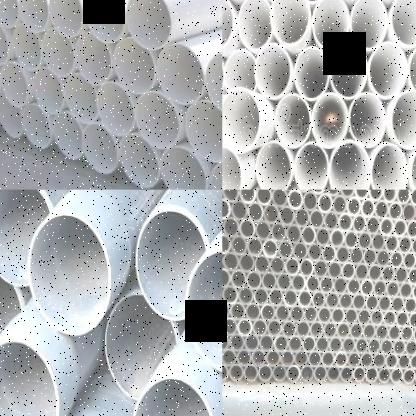pipe: (28, 213, 112, 337), (135, 210, 207, 322), (105, 294, 177, 400), (0, 190, 50, 286), (0, 337, 60, 416), (185, 247, 222, 374), (132, 375, 217, 416), (157, 44, 206, 104), (222, 87, 261, 153), (136, 92, 180, 150), (0, 263, 22, 370), (126, 0, 172, 50), (114, 38, 155, 94), (185, 100, 222, 162), (119, 134, 160, 188), (370, 42, 407, 100), (330, 43, 367, 100), (254, 43, 291, 100), (96, 82, 135, 136), (328, 140, 370, 190), (312, 93, 349, 149), (160, 146, 207, 190), (293, 46, 330, 101), (349, 93, 386, 148), (76, 31, 112, 86), (275, 93, 311, 148), (312, 0, 350, 51), (269, 0, 310, 46), (350, 0, 387, 50), (83, 122, 118, 174), (237, 0, 272, 51), (371, 142, 408, 190), (256, 141, 292, 190), (64, 74, 99, 124), (42, 27, 75, 78), (86, 0, 124, 43), (294, 142, 328, 190), (390, 89, 416, 150), (33, 66, 65, 115), (224, 48, 256, 94), (53, 111, 83, 160), (13, 23, 41, 72), (21, 103, 51, 148), (49, 0, 83, 38), (1, 62, 29, 107), (390, 0, 416, 48), (206, 50, 222, 117), (18, 0, 48, 33), (222, 145, 243, 190), (0, 97, 23, 138), (223, 0, 234, 51), (0, 0, 18, 27), (408, 41, 416, 98), (208, 158, 222, 190), (0, 20, 9, 66), (247, 201, 264, 223), (239, 218, 256, 240), (270, 221, 287, 243), (285, 223, 302, 244), (277, 239, 294, 260), (238, 252, 255, 273), (269, 255, 286, 276), (222, 284, 239, 305), (228, 332, 245, 353), (346, 195, 362, 217), (231, 199, 247, 221), (279, 204, 295, 226), (294, 206, 310, 228), (255, 219, 271, 241), (231, 234, 247, 256), (247, 235, 263, 257), (302, 190, 318, 212), (230, 269, 247, 289), (237, 285, 254, 305), (229, 301, 246, 321), (263, 203, 279, 224), (223, 217, 239, 238), (262, 238, 278, 259), (223, 251, 239, 272), (284, 256, 300, 277), (245, 301, 261, 322), (260, 302, 276, 323), (374, 198, 389, 220), (309, 208, 324, 230), (392, 217, 407, 239), (301, 224, 316, 246), (318, 192, 333, 214), (236, 318, 253, 337), (286, 190, 303, 209), (329, 228, 345, 248), (254, 254, 270, 274), (246, 270, 262, 290), (261, 271, 277, 291), (276, 272, 292, 292), (253, 286, 269, 306), (268, 287, 284, 307), (244, 333, 260, 353), (243, 363, 259, 383), (332, 194, 347, 215), (360, 197, 375, 218), (401, 201, 416, 222), (379, 216, 394, 237), (315, 226, 330, 247), (357, 230, 372, 251), (371, 231, 386, 252), (307, 242, 322, 263), (299, 257, 314, 278), (327, 259, 342, 280), (236, 349, 253, 367), (271, 190, 288, 208), (321, 244, 337, 263), (305, 274, 321, 293), (297, 289, 313, 308), (252, 318, 268, 337), (251, 349, 267, 368), (285, 364, 301, 383), (338, 213, 353, 233), (352, 214, 367, 234), (365, 215, 380, 235), (344, 229, 359, 249), (384, 233, 399, 253), (293, 241, 308, 261), (376, 248, 391, 268), (401, 250, 416, 270), (291, 273, 306, 293), (275, 303, 290, 323), (222, 317, 237, 337), (267, 318, 282, 338), (229, 362, 244, 382), (258, 363, 273, 383), (388, 200, 402, 221), (324, 210, 338, 231), (336, 244, 350, 265), (355, 261, 369, 282), (273, 334, 289, 352), (349, 246, 364, 265), (389, 250, 404, 269), (313, 259, 328, 278), (319, 275, 334, 294), (333, 276, 348, 295), (283, 288, 298, 307), (311, 290, 326, 309), (325, 291, 340, 310), (338, 292, 353, 311), (289, 304, 304, 323), (309, 320, 324, 339), (259, 333, 274, 352), (294, 349, 309, 368), (300, 364, 315, 383), (326, 364, 341, 383), (272, 364, 287, 383), (401, 366, 416, 385), (363, 247, 377, 267), (381, 264, 395, 284), (352, 292, 366, 312), (304, 304, 318, 324), (317, 305, 331, 325), (282, 319, 296, 339), (344, 307, 359, 325), (323, 321, 338, 339), (315, 335, 330, 353), (328, 336, 343, 354), (222, 348, 237, 366), (266, 349, 281, 367), (280, 350, 295, 368), (313, 364, 328, 382), (377, 366, 392, 384), (398, 235, 412, 254), (341, 261, 355, 280), (368, 263, 382, 282), (347, 277, 361, 296), (360, 278, 374, 297), (378, 294, 392, 313), (331, 306, 345, 325), (357, 307, 371, 326), (296, 320, 310, 339), (336, 321, 350, 340), (400, 324, 414, 343), (288, 335, 302, 354), (355, 336, 369, 355), (380, 337, 394, 356), (365, 364, 379, 383), (353, 365, 367, 384), (390, 366, 404, 385), (394, 266, 408, 284), (373, 279, 387, 297), (386, 280, 400, 298), (399, 281, 413, 299), (365, 294, 379, 312), (395, 310, 409, 328), (302, 335, 316, 353), (367, 337, 381, 355), (392, 338, 406, 356), (347, 351, 361, 369), (339, 365, 353, 383), (391, 295, 404, 314), (370, 308, 383, 327), (308, 349, 321, 368), (335, 350, 348, 369), (373, 351, 386, 370), (256, 190, 272, 205), (321, 351, 335, 368), (239, 190, 256, 204), (350, 322, 363, 340), (388, 324, 401, 342), (342, 336, 355, 354), (398, 352, 410, 371), (360, 352, 374, 368), (385, 353, 398, 370), (404, 296, 416, 314), (376, 323, 388, 341), (397, 190, 411, 205), (222, 190, 239, 202), (406, 219, 416, 239), (384, 309, 395, 327), (405, 338, 416, 356), (382, 190, 397, 203), (364, 324, 376, 340), (407, 267, 416, 286), (222, 331, 230, 352), (369, 190, 383, 202), (223, 232, 230, 254), (354, 190, 369, 200), (223, 198, 230, 219), (223, 267, 230, 288), (223, 300, 230, 320), (339, 190, 355, 198), (409, 310, 416, 328), (409, 353, 416, 370), (410, 190, 416, 207), (325, 190, 341, 196), (411, 236, 416, 255), (223, 362, 228, 381), (412, 281, 416, 300), (310, 190, 325, 194), (413, 325, 416, 343), (414, 369, 416, 386)
